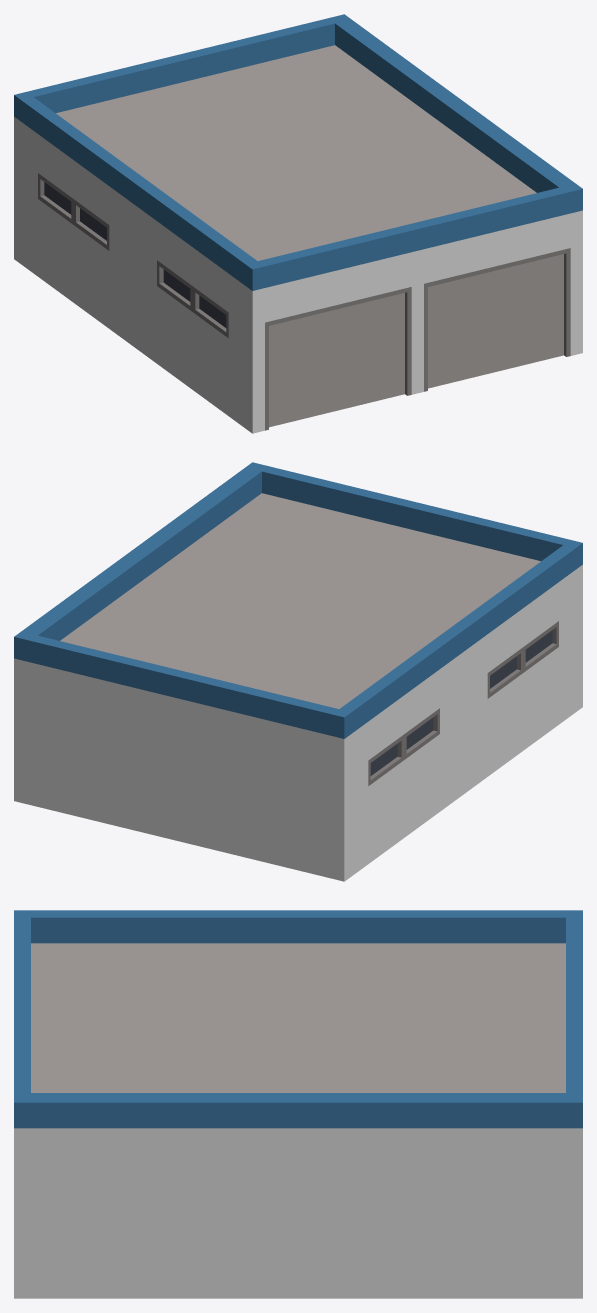
The model's file is building-policestation-garage.fbx.
The picture shows the model from 3 angles, top to bottom: view 1: azimuth 30°, elevation 25°; view 2: azimuth 150°, elevation 25°; view 3: azimuth 270°, elevation 25°; orthographic projection. The views are drawn at different scales.
Visible parts, largest first — view 1: building-policestation-garage; view 2: building-policestation-garage; view 3: building-policestation-garage.
Boxes of the visible parts, x1=… form: building-policestation-garage: x1=14, y1=14, x2=582, y2=433; building-policestation-garage: x1=14, y1=462, x2=582, y2=881; building-policestation-garage: x1=14, y1=910, x2=582, y2=1298.
Bounding box in the file's own units: 8 × 3.8 × 10.
